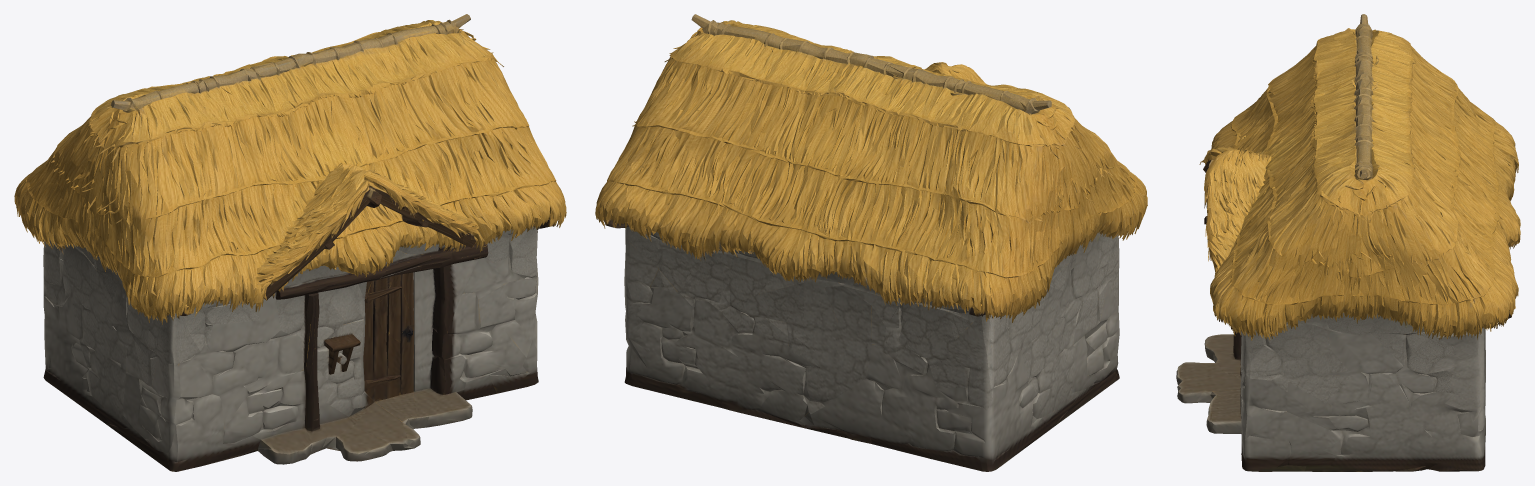
The model's file is hut.glb.
The picture shows the model from 3 angles, left to right: view 1: azimuth 30°, elevation 25°; view 2: azimuth 150°, elevation 25°; view 3: azimuth 270°, elevation 25°; orthographic projection. The views are drawn at different scales.
Size of the model in its own units: 1.9 by 1.38 by 1.46.
Materials: 1 (1 with a texture image).
